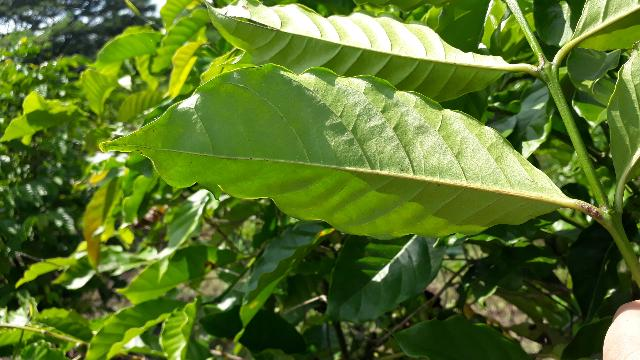healthy: (100, 64, 576, 240)
